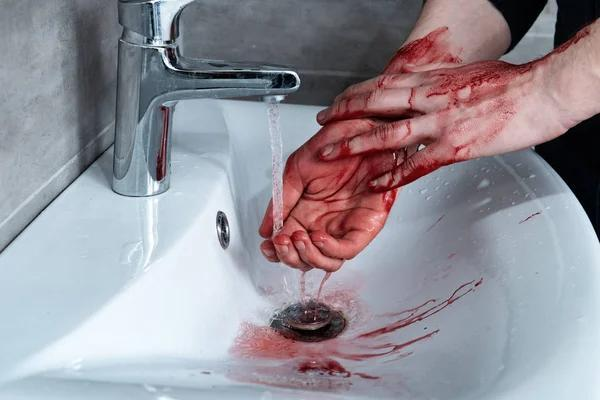Fire: (320, 28, 536, 188), (229, 278, 485, 390), (525, 20, 600, 64), (382, 190, 400, 210)
